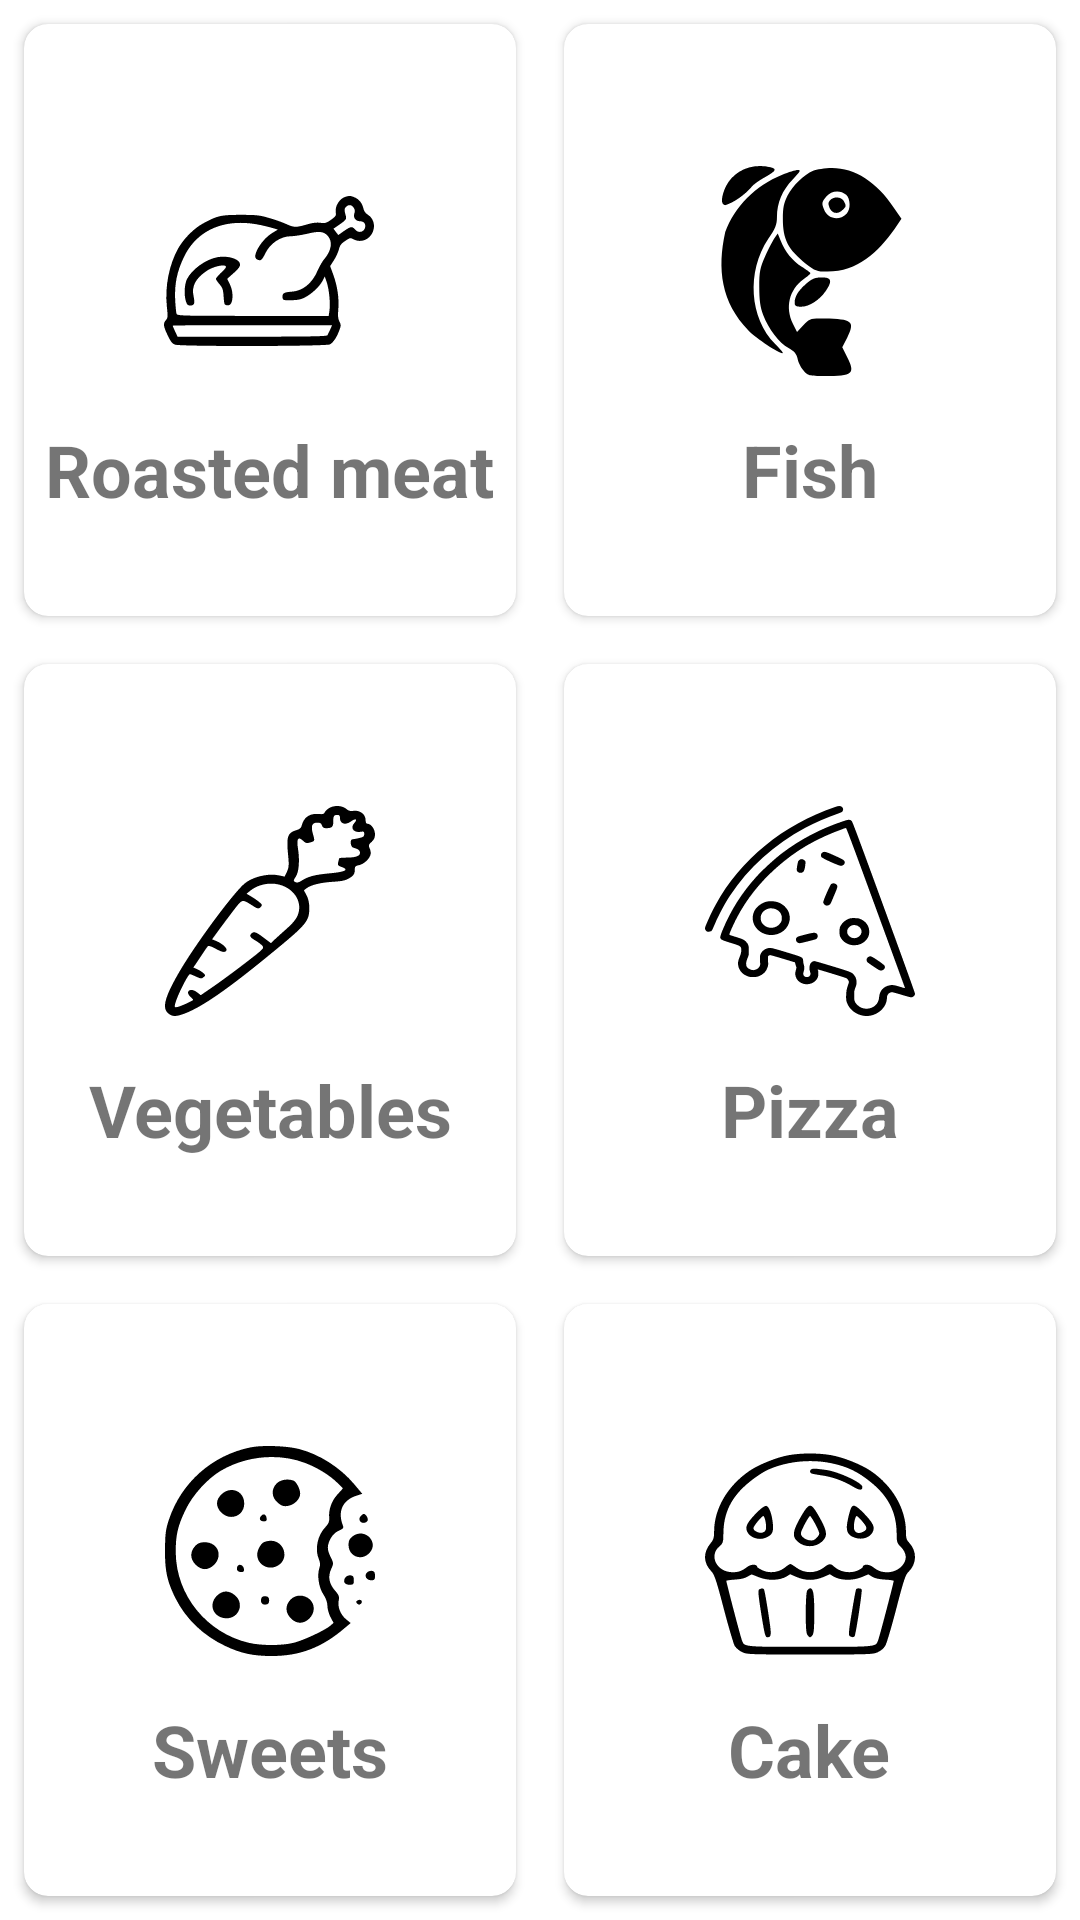

Where to tap for icons on this 1080 x 1920 app screen, as (x,y):
roast meat: (269,271)
